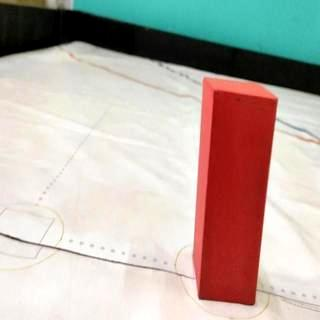redbox: (192, 74, 279, 304)
